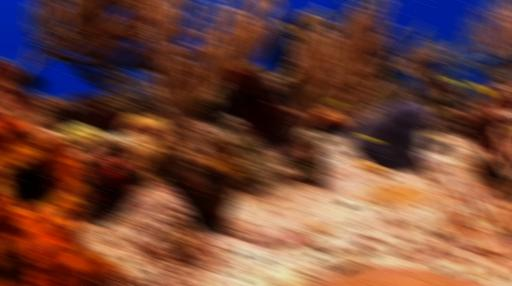Fish: (465, 55, 508, 66), (468, 81, 494, 97), (23, 71, 44, 89), (280, 20, 299, 37), (356, 135, 381, 141), (432, 104, 447, 114), (441, 79, 462, 86), (309, 11, 321, 19), (326, 100, 343, 105)
